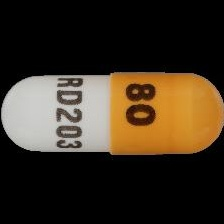51991-818: (0, 0, 224, 224)
